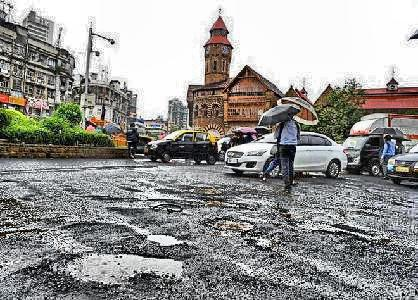pothole: (54, 250, 189, 286), (206, 215, 255, 233), (144, 230, 184, 246), (151, 201, 183, 211), (202, 195, 226, 208), (199, 184, 225, 193)
